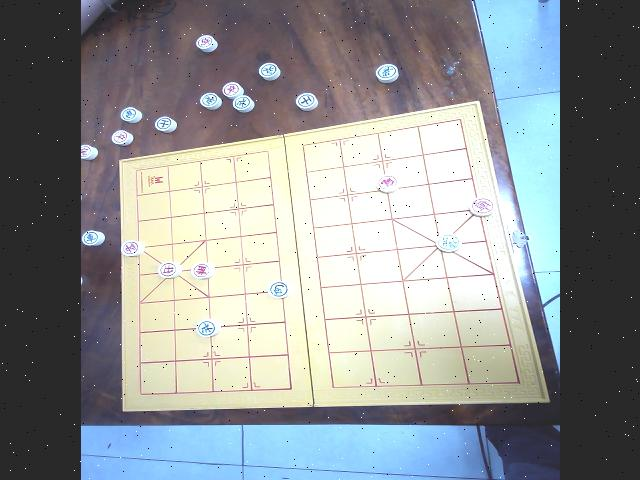piece: (193, 318, 220, 338), (466, 197, 494, 216), (373, 174, 398, 194), (373, 62, 398, 82), (434, 234, 459, 252), (189, 261, 213, 279), (294, 92, 318, 110), (80, 228, 104, 246), (266, 280, 290, 298), (257, 62, 279, 80), (156, 261, 180, 277), (220, 81, 242, 98), (109, 129, 131, 145), (120, 240, 142, 256), (194, 35, 216, 51), (119, 107, 141, 123), (153, 116, 175, 132), (230, 95, 252, 111), (198, 92, 220, 108), (80, 144, 97, 160)
